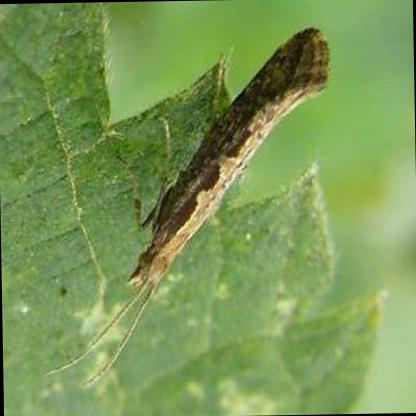plutella: (42, 19, 340, 385)
